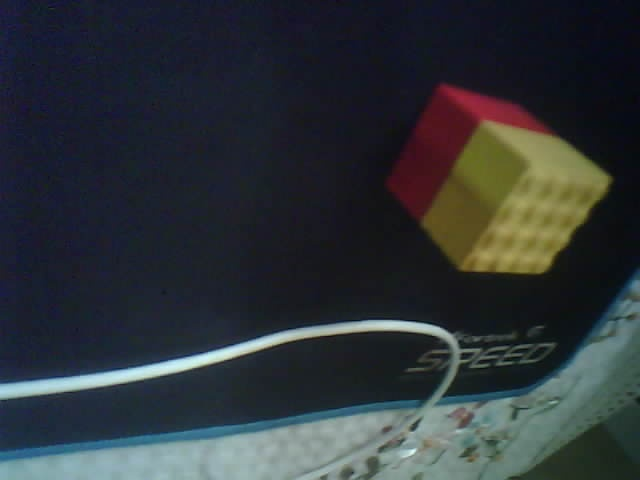lego: (382, 82, 612, 277)
